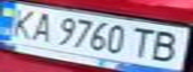0: (106, 22, 130, 56)
6: (87, 20, 109, 53)
7: (69, 16, 93, 51)
9: (51, 14, 78, 47)
A: (24, 10, 60, 43)
B: (145, 28, 190, 64)
K: (0, 7, 42, 39)
T: (127, 25, 160, 60)
